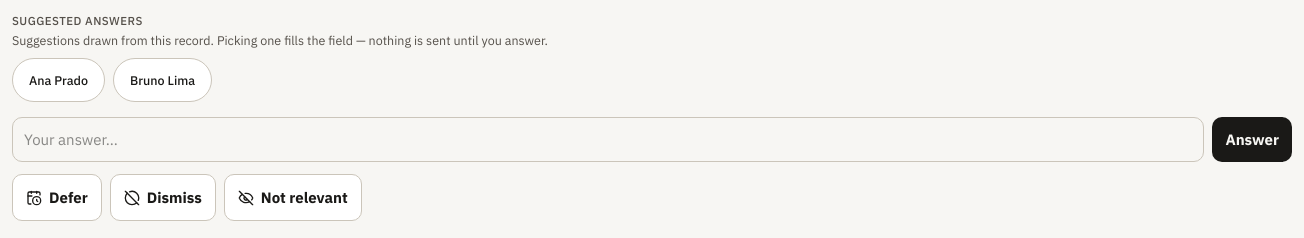
Test: QuestionAnswerForm suggestion chips › renders the English suggestion chrome
The width and height of the screenshot is (1304, 238).
Expected: the element "Suggested answers" is shown, [12, 13, 548, 102]
Click the button "Ana Prado": (58, 80) [12, 58, 105, 102]
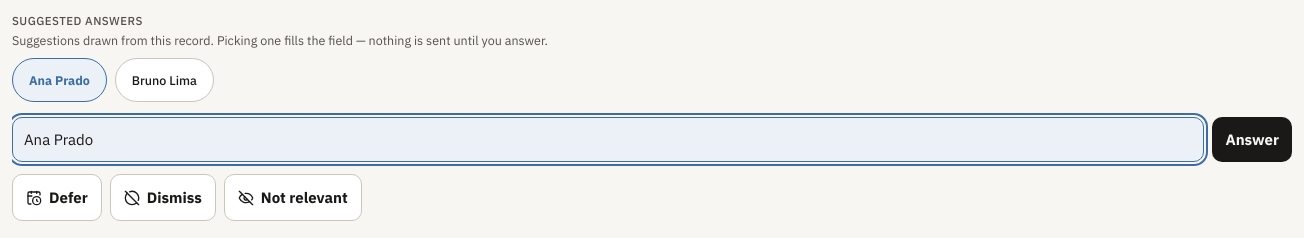
Expected: the field named "answer" holds "Ana Prado", [12, 117, 1204, 162]
